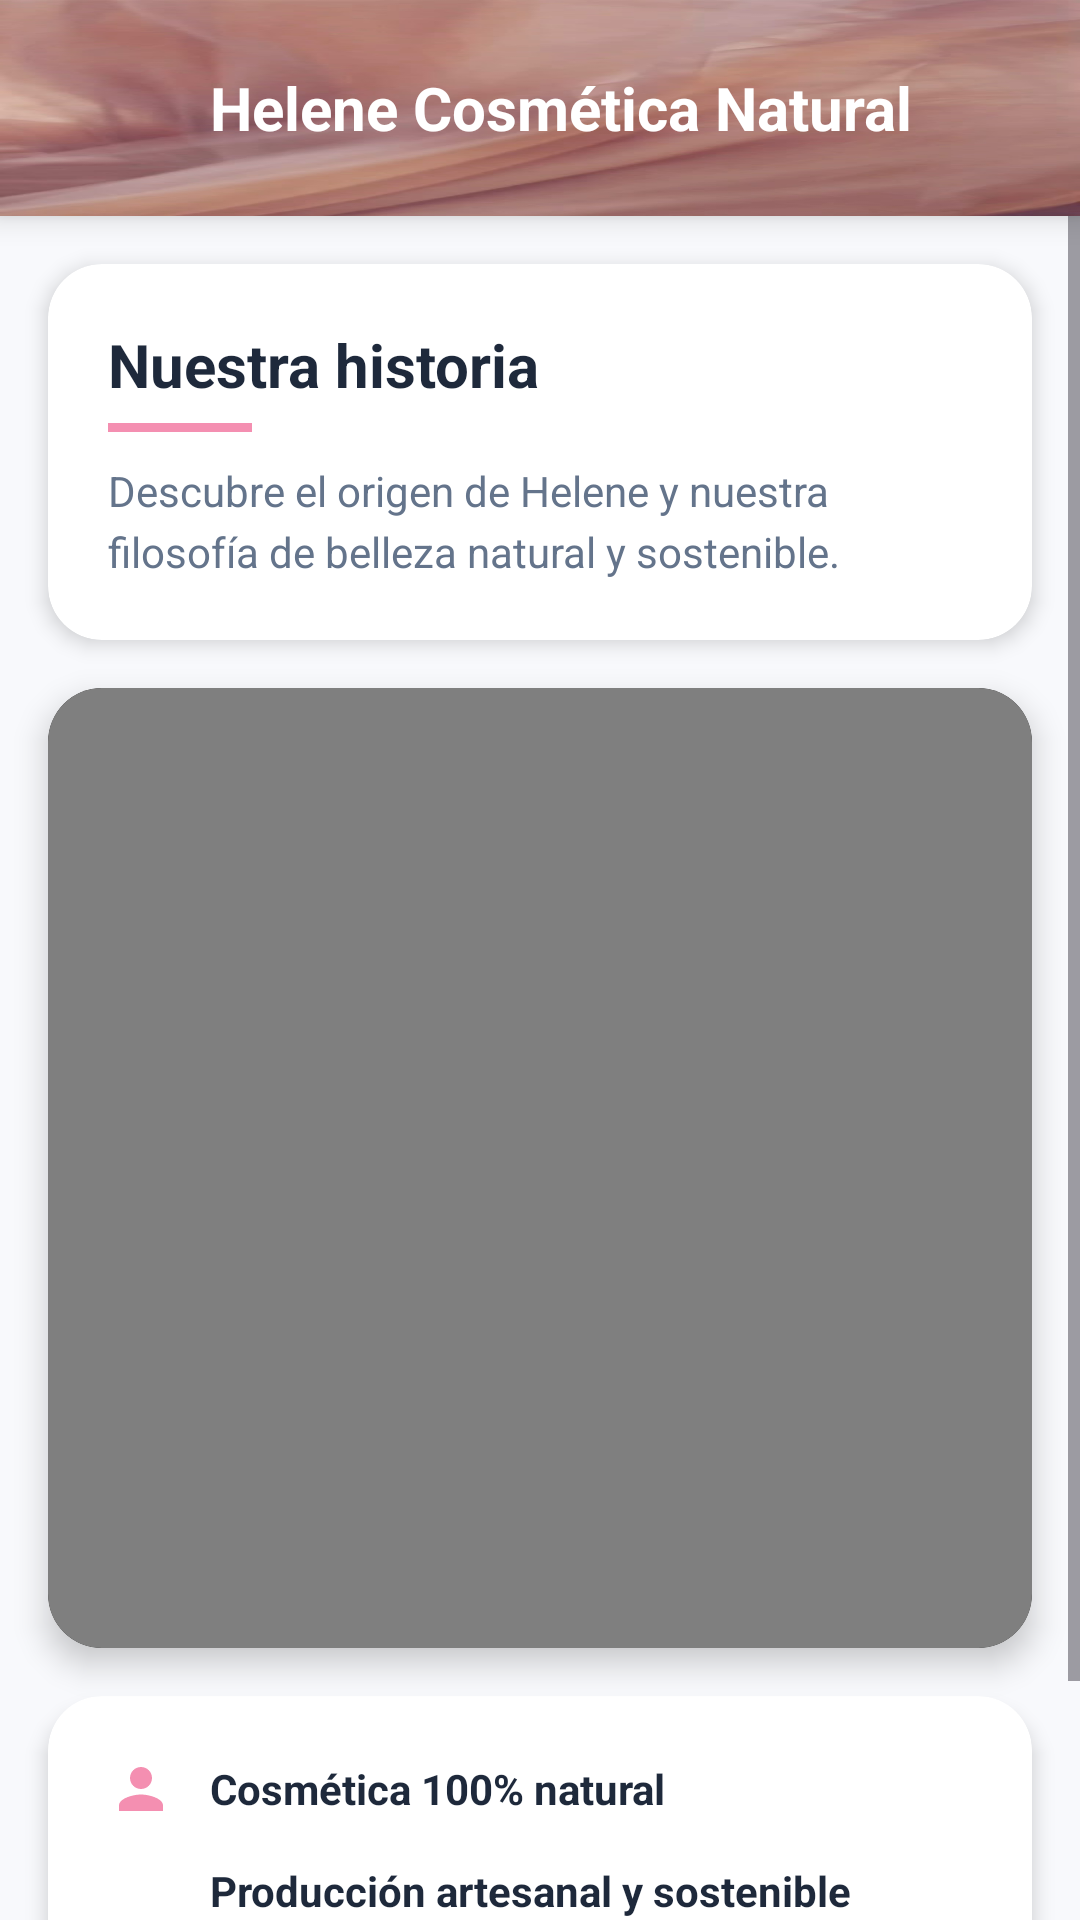

Icon click points for this 1080 x 1920 phone screenshot, format (x=x, y=y):
profile: (x=141, y=1789)
